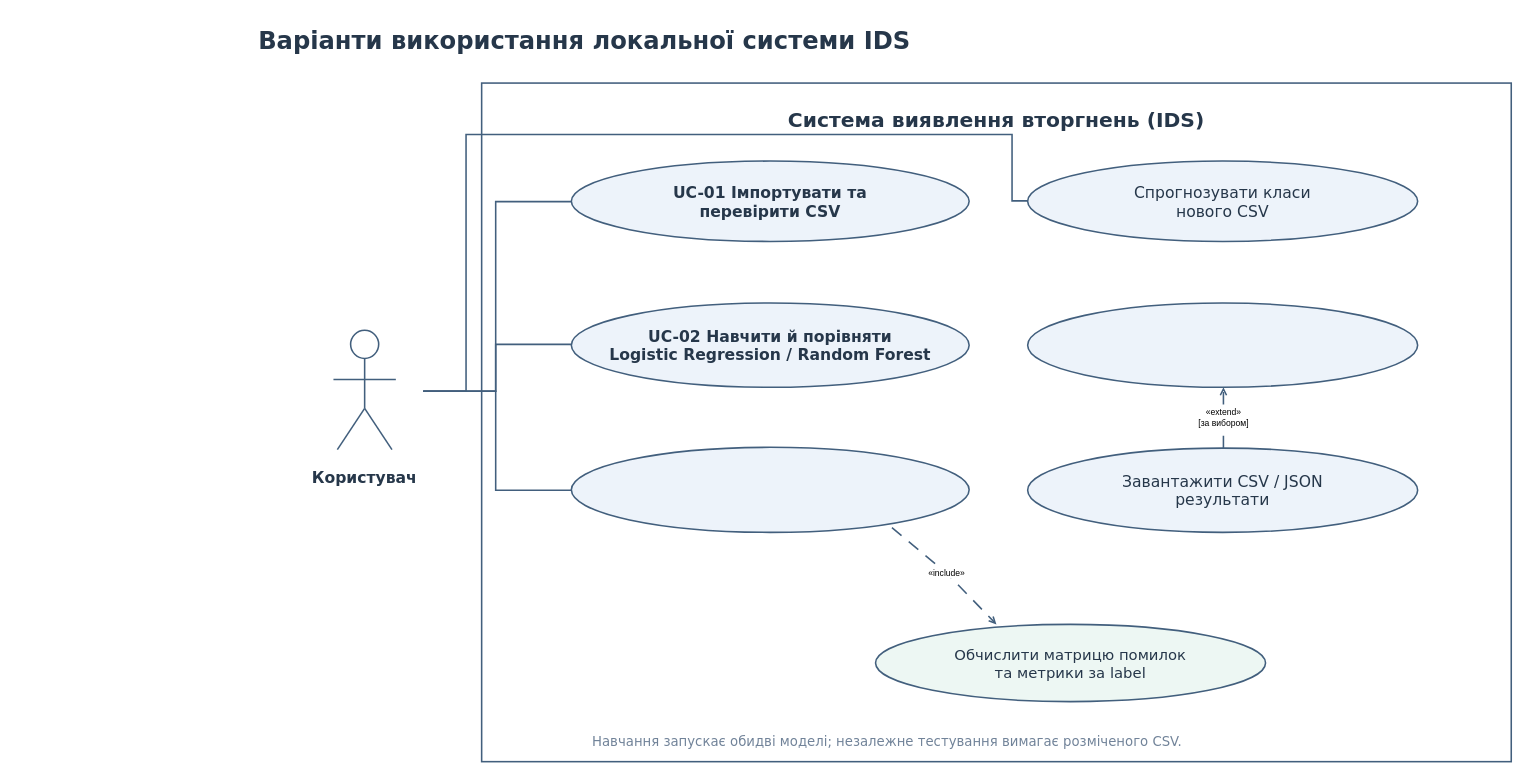
The diagram is 1525 pixels wide and 782 high, and some of its shapes have lost their labels. The centre of each missing label's shape, as x and y in pixels:
"UC-03 Незалежно протестувати збережену модель" belongs at (x=770, y=489).
"Переглянути результати та конфігурацію" belongs at (x=1222, y=345).
